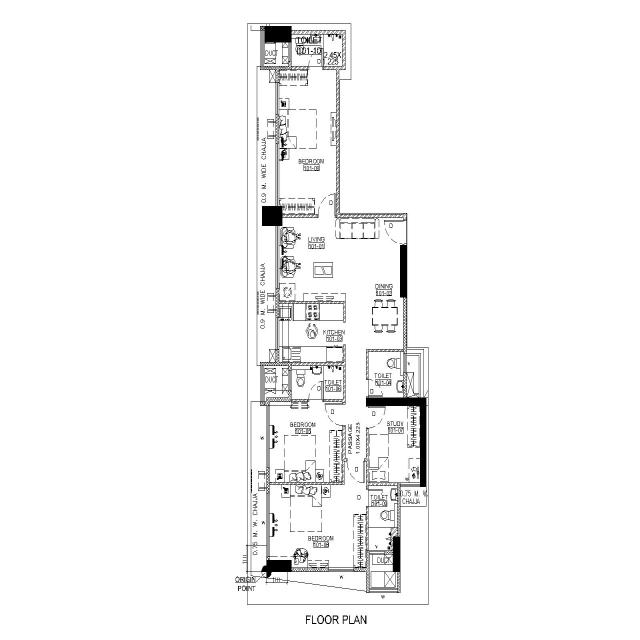Column: (419, 397, 427, 489), (365, 397, 427, 407), (264, 24, 292, 44), (399, 242, 408, 300), (261, 205, 283, 227), (392, 534, 402, 574), (266, 559, 292, 573)
Door: (402, 217, 408, 245), (316, 213, 337, 219), (365, 404, 369, 430), (342, 402, 346, 428), (307, 65, 324, 71), (365, 377, 369, 399), (365, 488, 369, 508), (308, 398, 324, 402), (348, 458, 364, 462)
Opening: (342, 322, 347, 346)
Ventilator: (286, 38, 292, 62), (368, 549, 386, 555), (403, 352, 407, 373)
Window: (274, 224, 281, 288), (275, 141, 280, 207), (266, 492, 270, 556), (266, 404, 270, 468), (368, 588, 398, 594), (275, 316, 280, 351), (327, 567, 355, 573)
